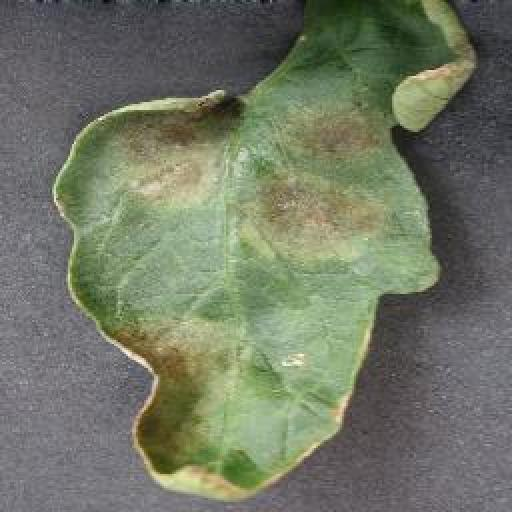Late Blight: (54, 0, 476, 504)
